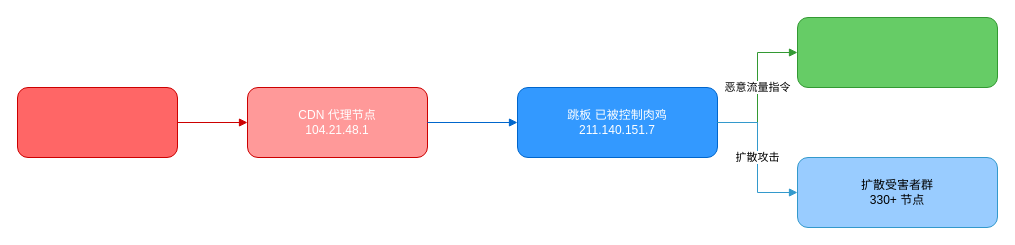
The diagram is 1015 pixels wide and 245 high, and some of its shapes have lost their labels. Each missing label, with the centre of its shape:
"C2 域名 y.szmr.org" goes at (97,122).
"初始受害者 117.187.17.119" goes at (897,52).
